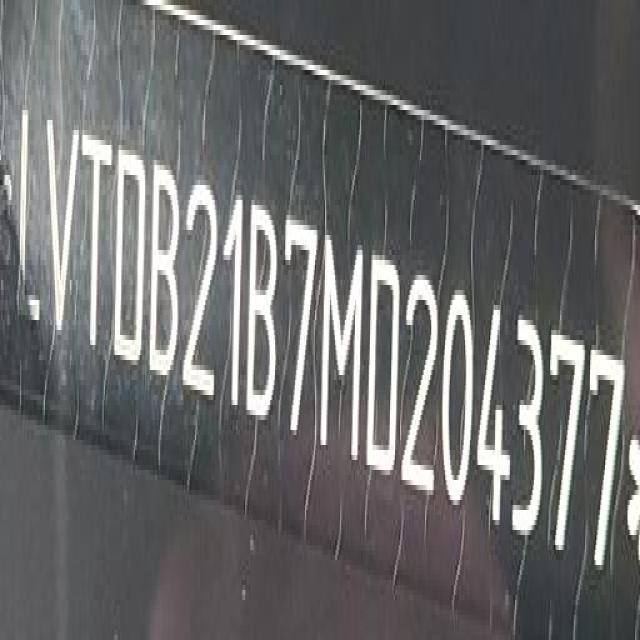0: (444, 289, 475, 513)
1: (224, 190, 244, 415)
2: (187, 173, 220, 403), (407, 277, 438, 501)
3: (515, 308, 545, 546)
4: (479, 306, 512, 534)
7: (285, 207, 318, 453), (553, 324, 585, 564), (594, 342, 624, 582)
B: (150, 156, 182, 388), (248, 197, 277, 427)
D: (369, 249, 402, 486), (115, 146, 147, 374)
L: (18, 108, 43, 332)
M: (321, 232, 364, 472)
T: (84, 124, 112, 360)
V: (43, 114, 77, 343)
